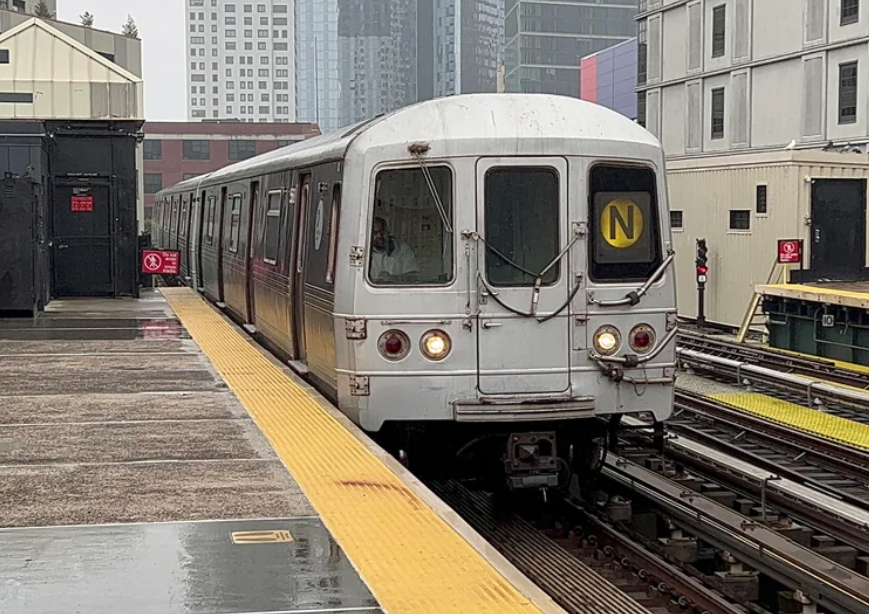train: (265, 94, 673, 419)
